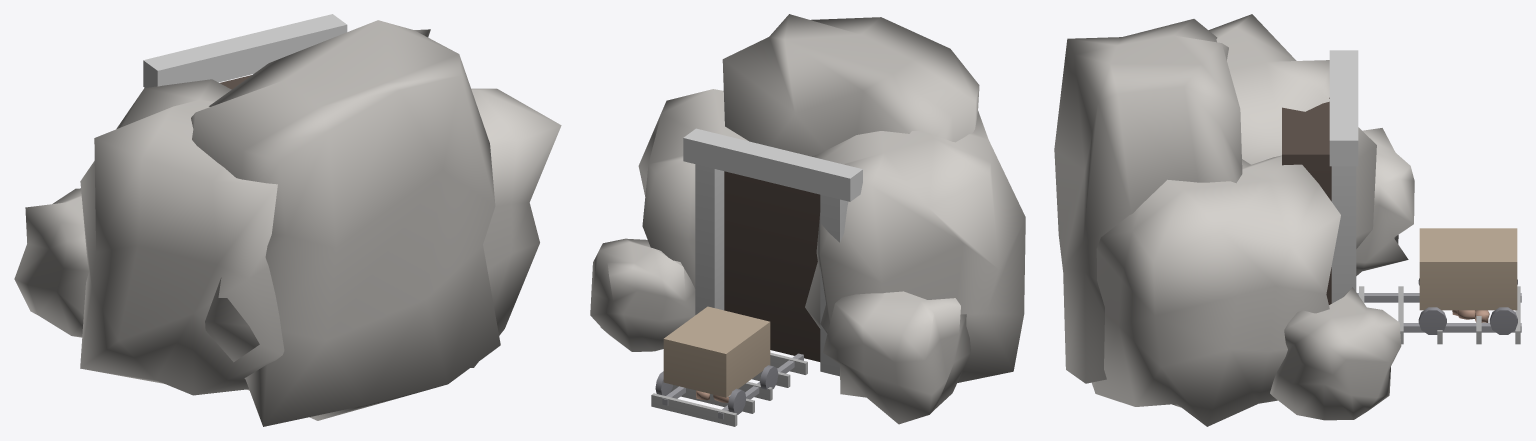
File: hw_mine.glb
The picture shows the model from 3 angles, left to right: view 1: azimuth 30°, elevation 25°; view 2: azimuth 150°, elevation 25°; view 3: azimuth 270°, elevation 25°; orthographic projection. The views are drawn at different scales.
Visible parts, largest first — view 1: Building; view 2: Building; view 3: Building.
Boxes of the visible parts, x1,y1,x2,y2 form: Building: [14, 14, 561, 426]; Building: [590, 14, 1025, 426]; Building: [1054, 14, 1521, 426].
Bounding box in the file's own units: 2.77 × 2.14 × 2.63.
